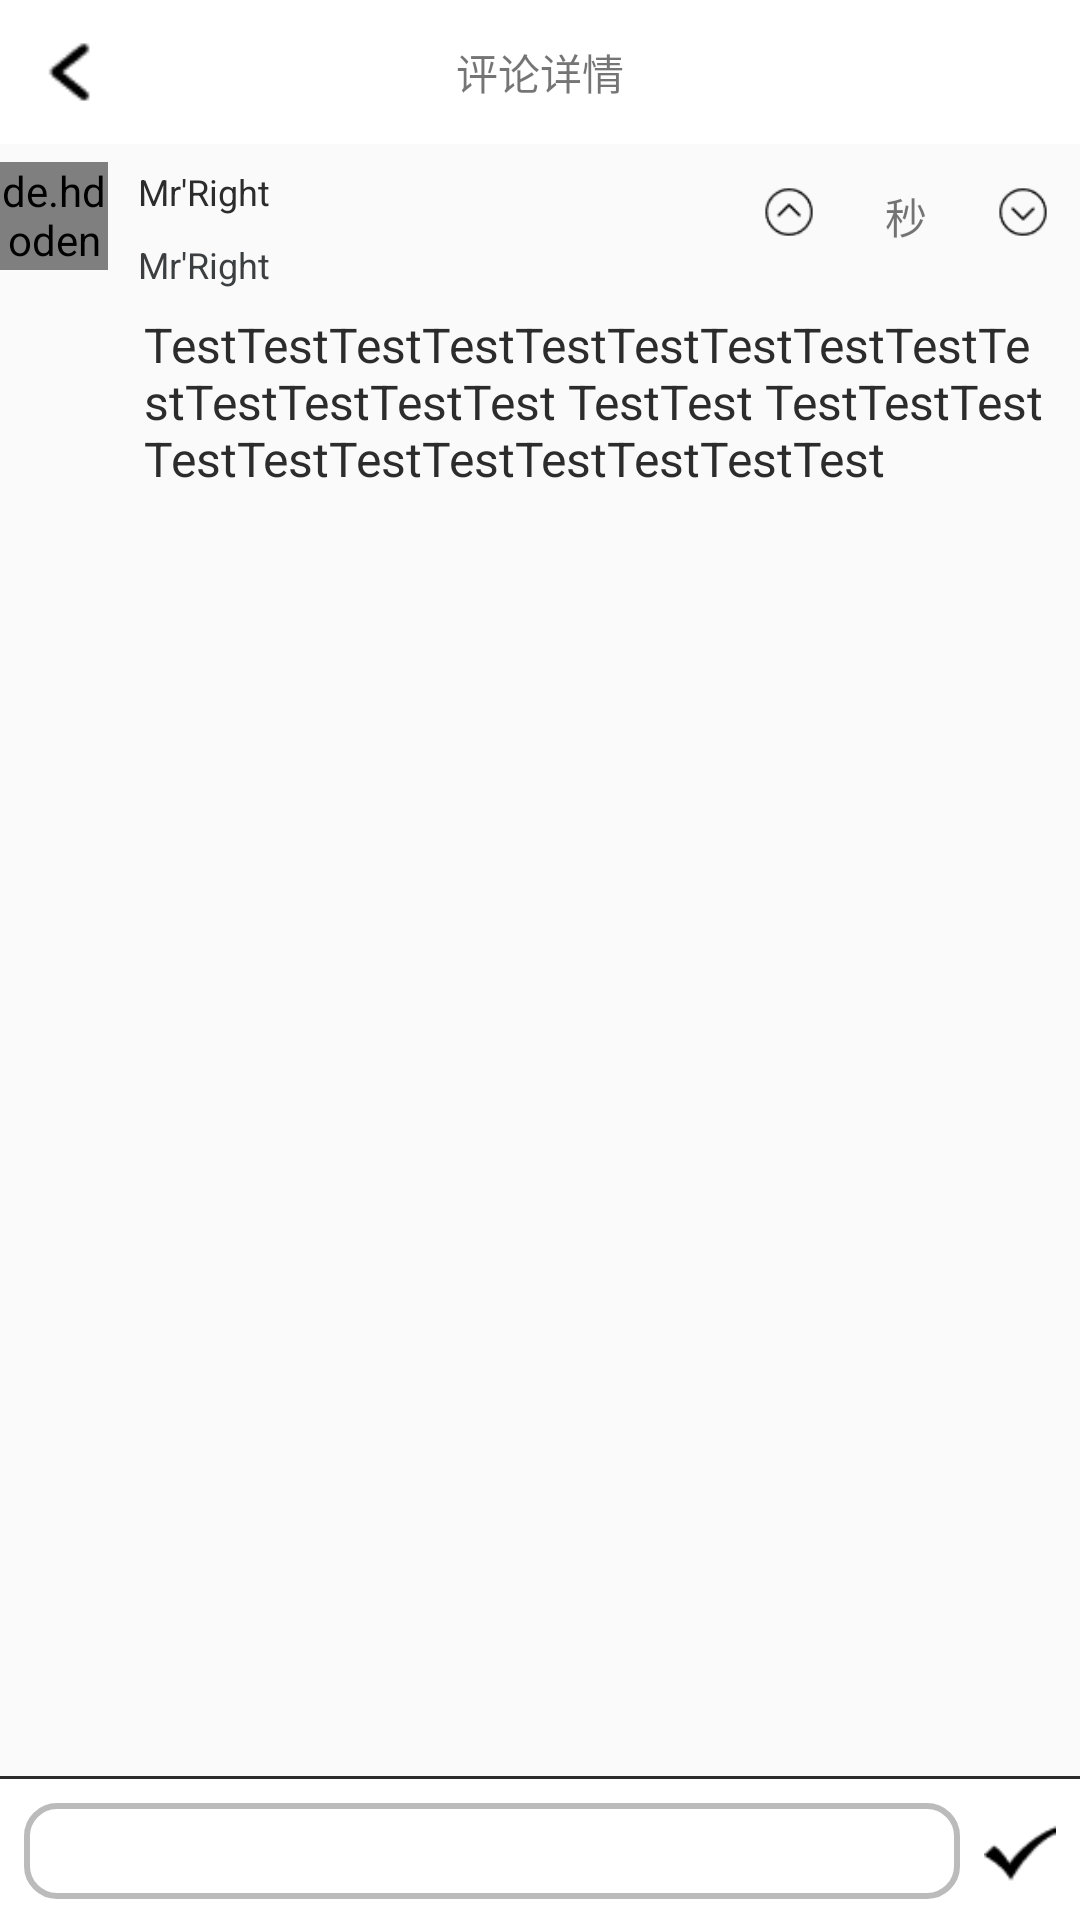

Screen size 1080px x 1920px. Icon name, then its box in pixels as bbox=(x1, y1, x2, y2):
down: bbox=(999, 188, 1047, 236)
fanhui: bbox=(49, 43, 90, 101)
